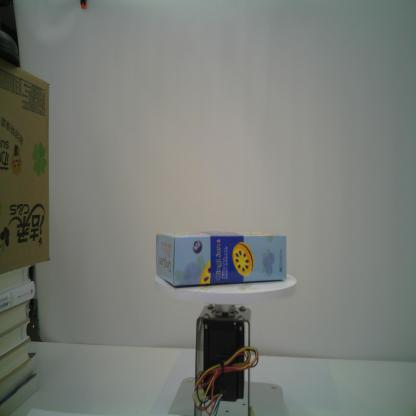Dessert: (154, 230, 288, 288)
